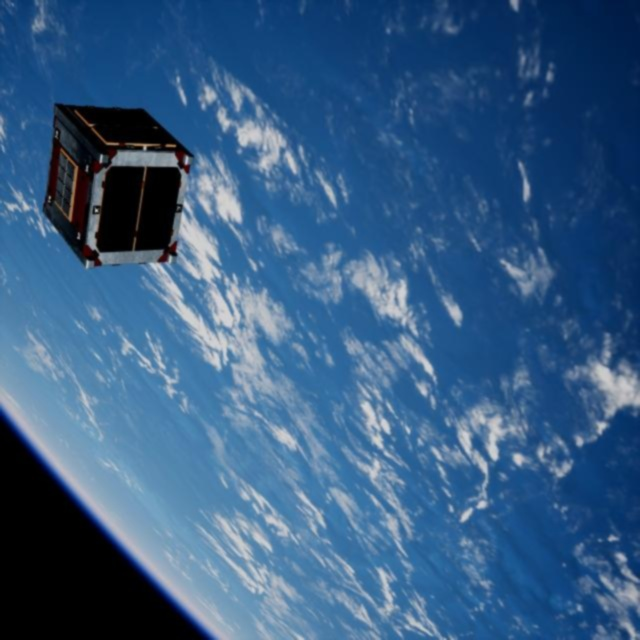satellite: (39, 101, 190, 274)
